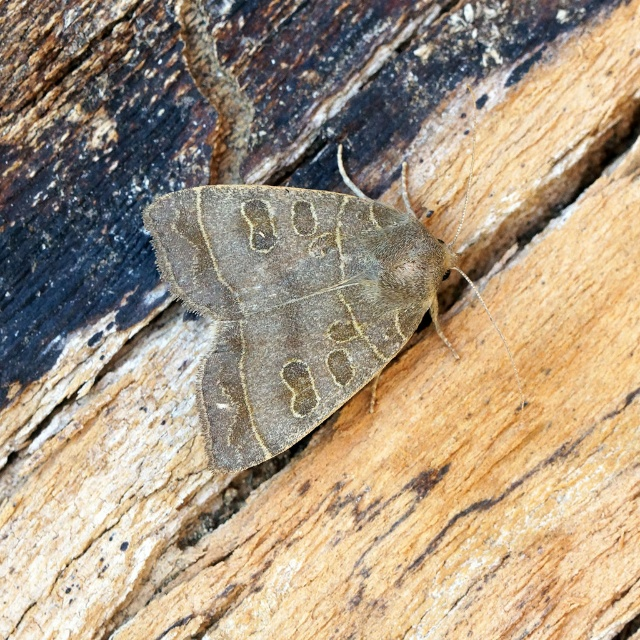Butterfly: (140, 141, 527, 472)
